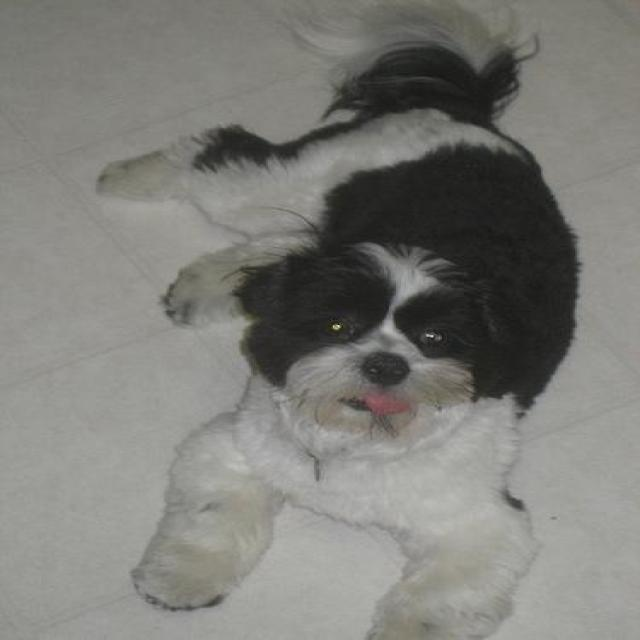shih_tzu: (88, 0, 583, 637)
